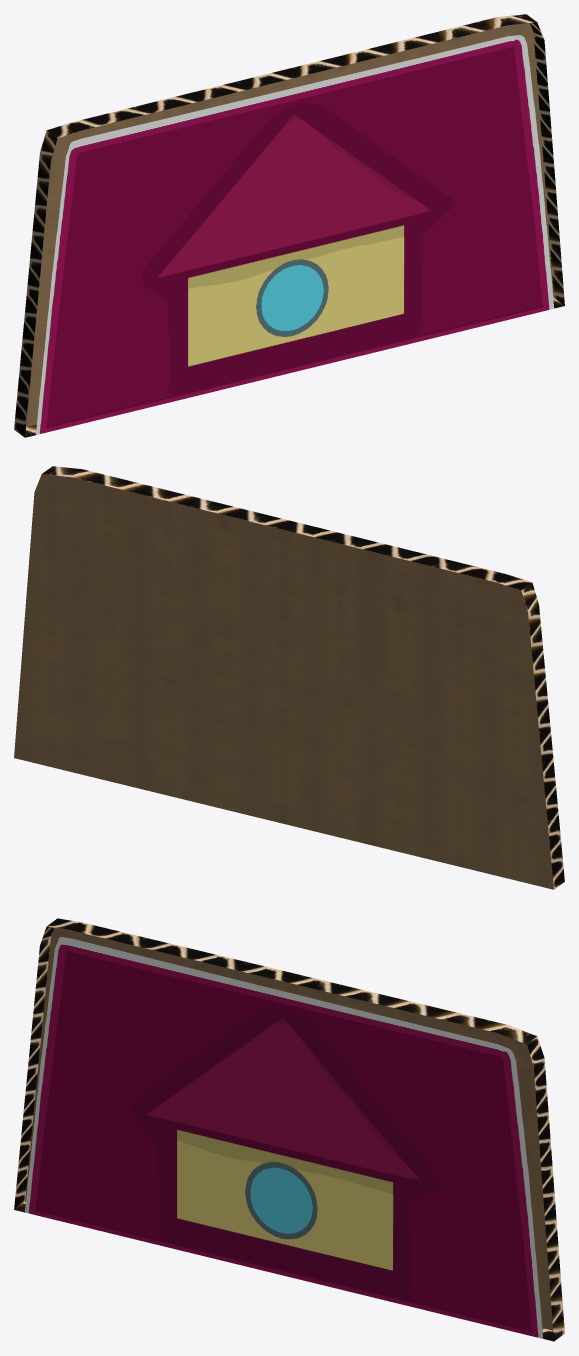
Rendered from House_Roof01.fbx.
3 renders of one model, top to bottom at view 1: azimuth 30°, elevation 25°; view 2: azimuth 150°, elevation 25°; view 3: azimuth 330°, elevation 25°, orthographic.
Visible parts, largest first — view 1: Line004; view 2: Line004; view 3: Line004.
Part boxes in pixels (x1,y1,x2,y2): Line004: [14, 14, 564, 437]; Line004: [14, 466, 564, 889]; Line004: [14, 918, 564, 1341].
Bounding box in the file's own units: 18.99 × 9.91 × 0.6711.
Materials: 4 (4 with a texture image).
